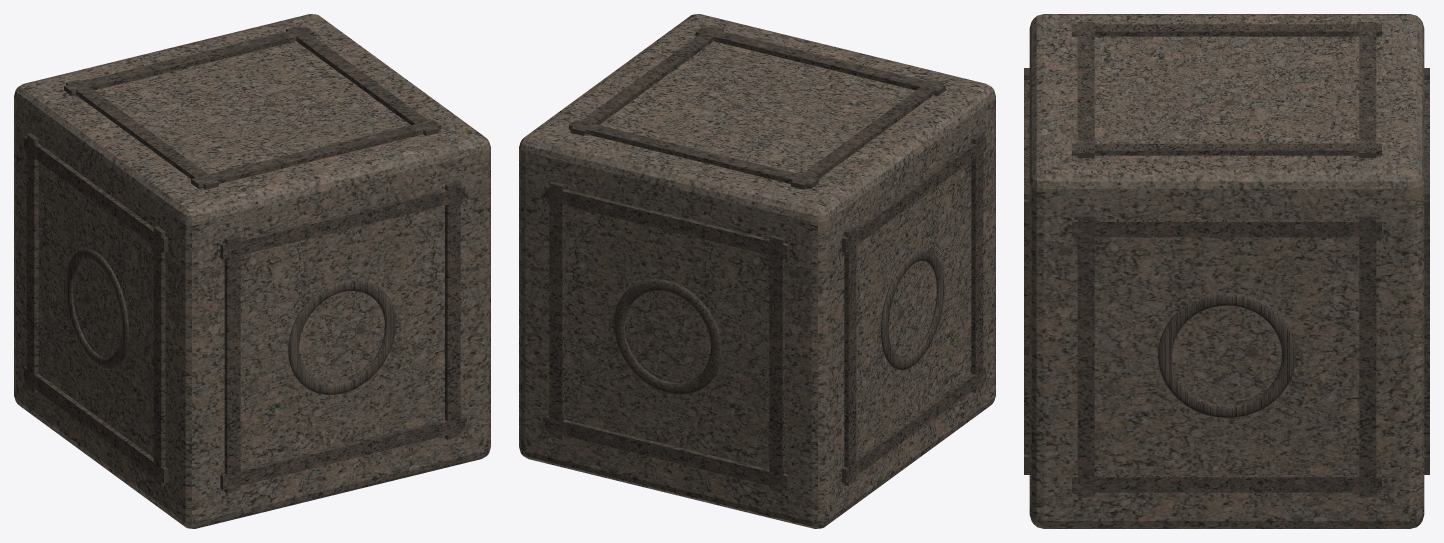
File: pushable_block.glb
The picture shows the model from 3 angles, left to right: view 1: azimuth 30°, elevation 25°; view 2: azimuth 150°, elevation 25°; view 3: azimuth 270°, elevation 25°; orthographic projection. The views are drawn at different scales.
Visible parts, largest first — view 1: pushable_block; view 2: pushable_block; view 3: pushable_block.
Boxes of the visible parts, x1,y1,x2,y2 form: pushable_block: (14, 14, 490, 528); pushable_block: (519, 14, 995, 528); pushable_block: (1024, 14, 1429, 528).
Bounding box in the file's own units: 1.44 × 1.44 × 1.44.
2 materials, 2 textured.
